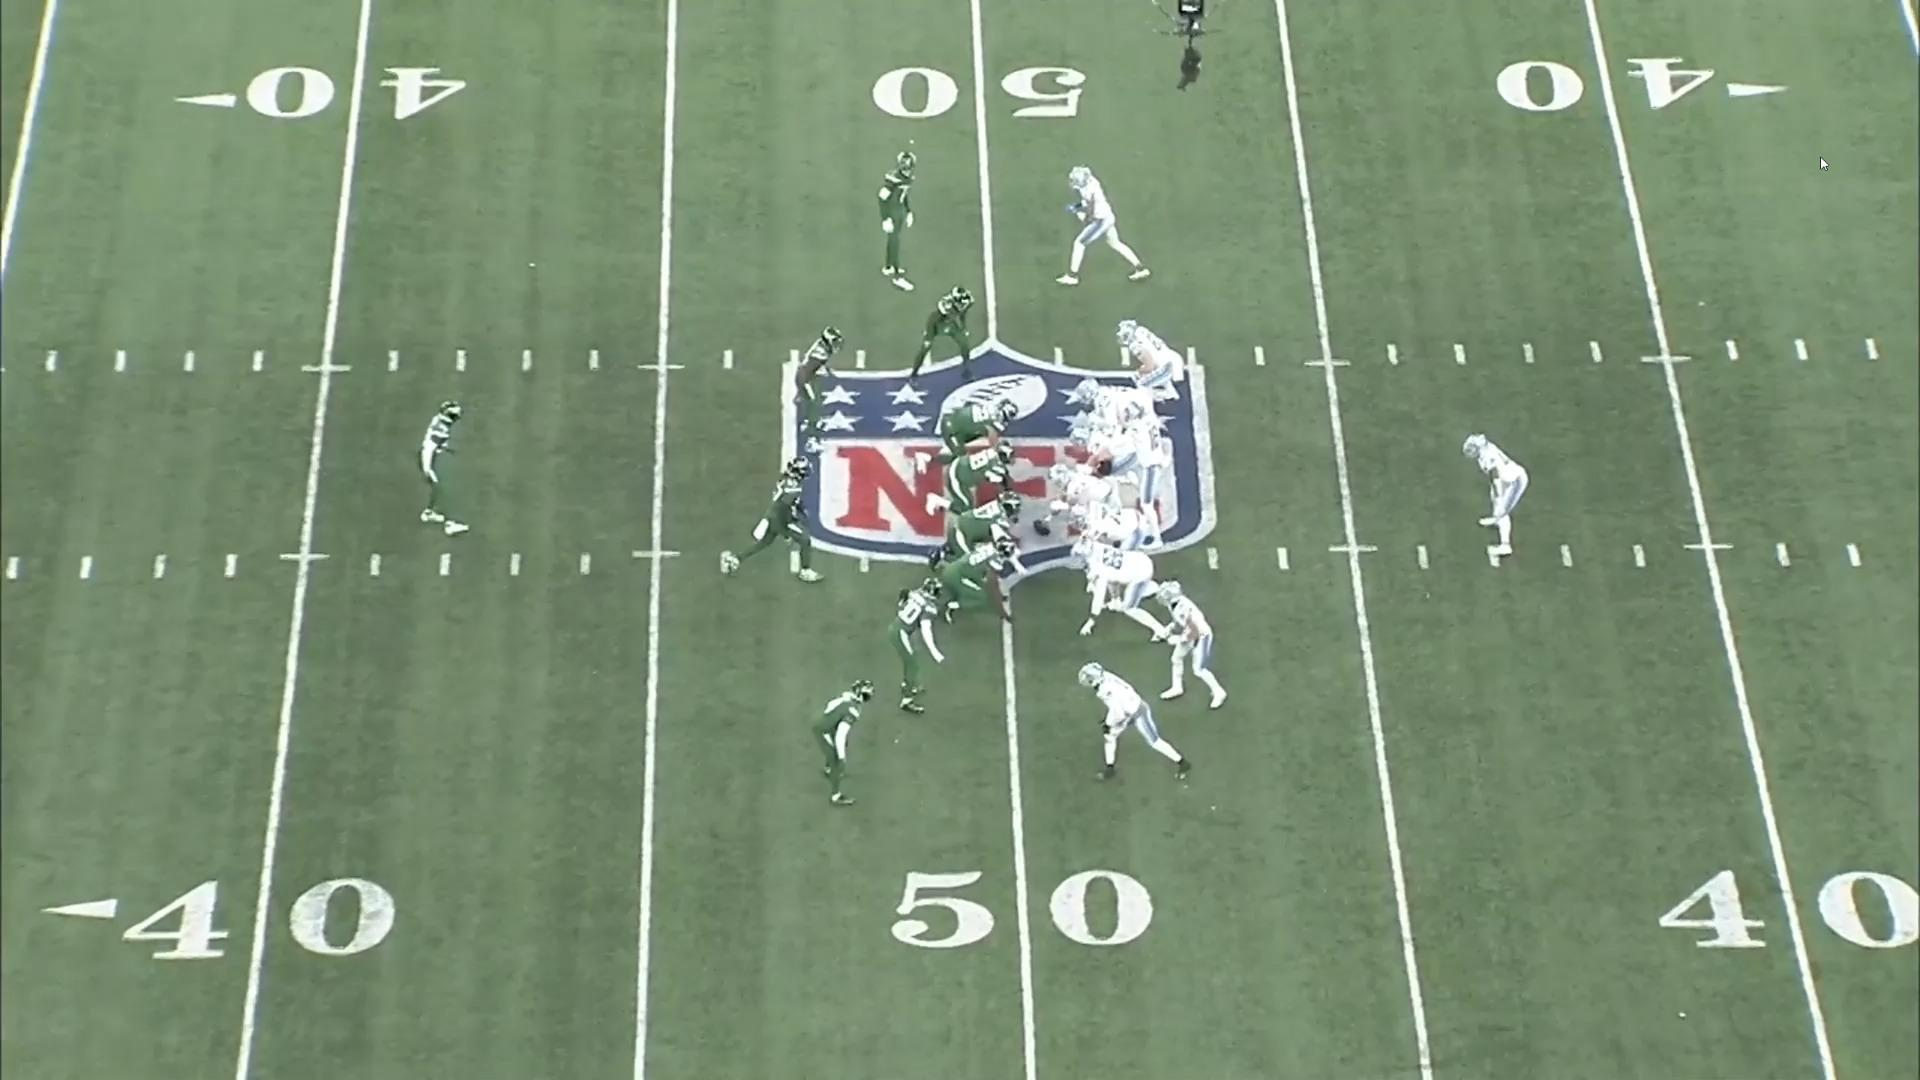40L: (41, 877, 397, 961), (170, 65, 465, 123)
40R: (1658, 866, 1920, 948), (1491, 54, 1789, 116)
50: (893, 869, 1154, 949), (869, 65, 1088, 120)
